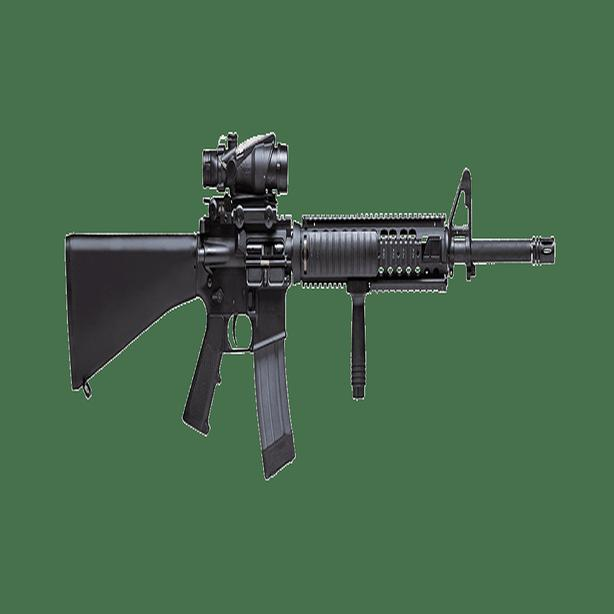Firearm: (55, 89, 582, 486)
